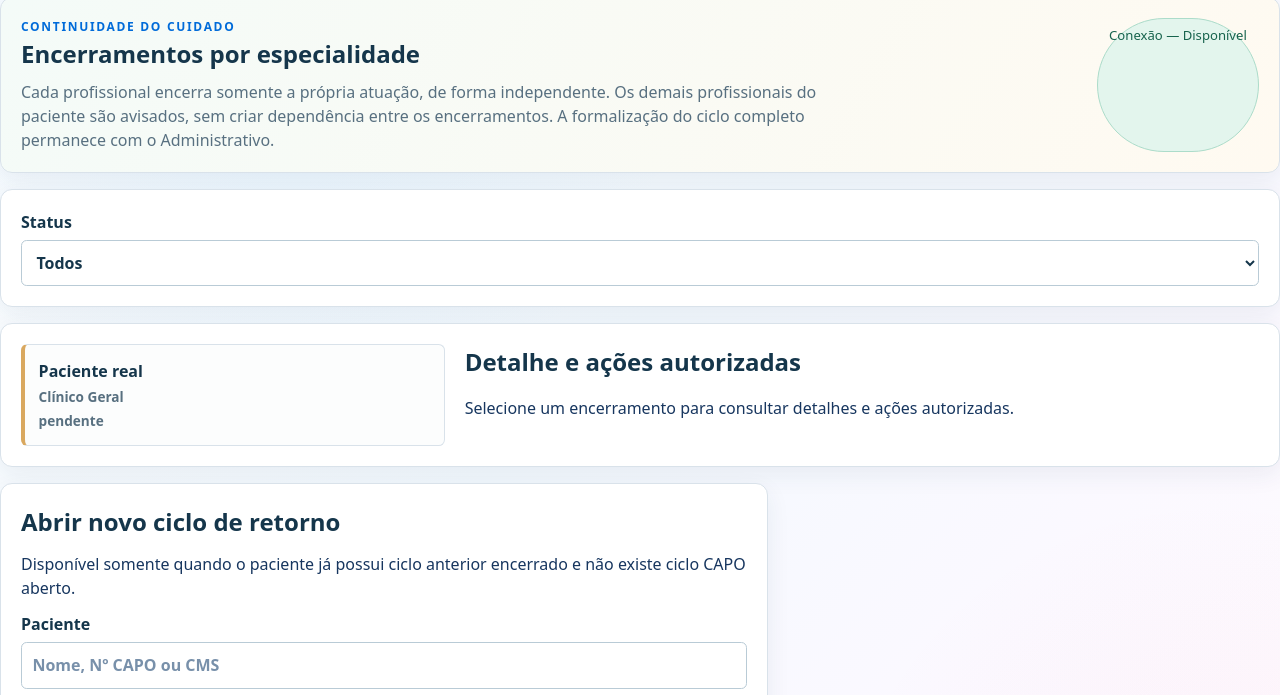
Test: ClosuresPage › expõe registro administrativo de decisão profissional somente ao Gestor Titular
Click the button "Paciente real Clínico Geral pendente". click: (91, 371)
box: [21,344,445,446]
(page scrolled)
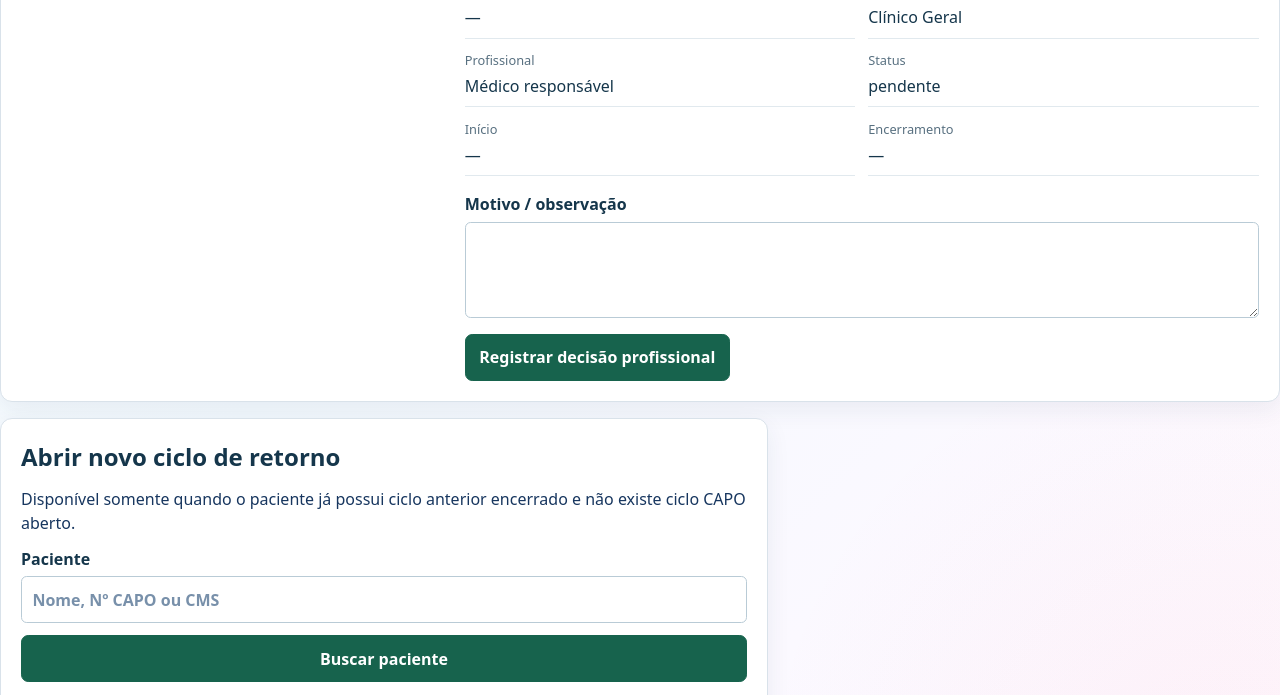
Expected: the button "Registrar decisão profissional" is shown, [465,334,730,381]
